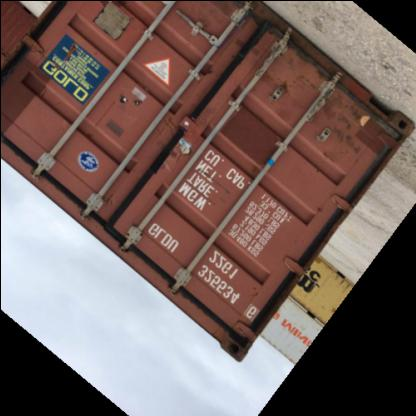Damage: (305, 86, 377, 158), (232, 37, 304, 103), (148, 129, 186, 175), (106, 92, 148, 114)
